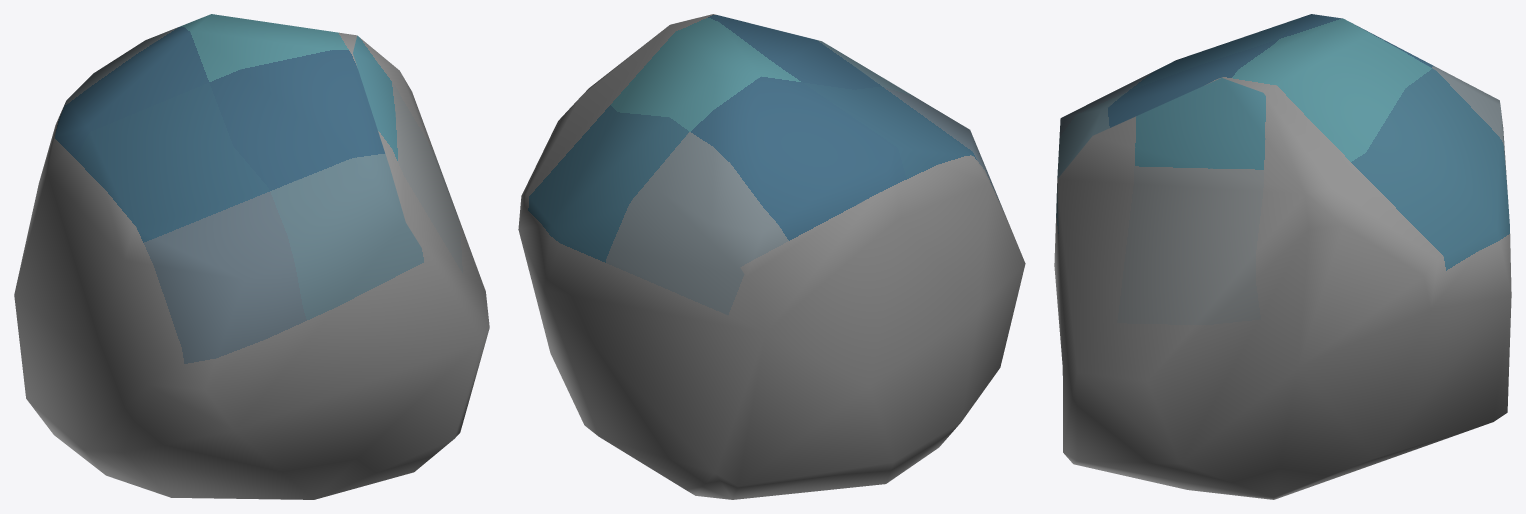
The picture shows the model from 3 angles, left to right: view 1: azimuth 30°, elevation 25°; view 2: azimuth 150°, elevation 25°; view 3: azimuth 270°, elevation 25°; orthographic projection. The views are drawn at different scales.
Parts seen in each view (by area): view 1: submesh_0; view 2: submesh_0; view 3: submesh_0.
Boxes of the visible parts, bbox=[...] form: submesh_0: bbox=[14, 14, 489, 499]; submesh_0: bbox=[518, 14, 1025, 499]; submesh_0: bbox=[1054, 14, 1511, 499].
Size of the model in its own units: 0.7282 by 0.7175 by 0.7385.
1 material, 1 textured.
